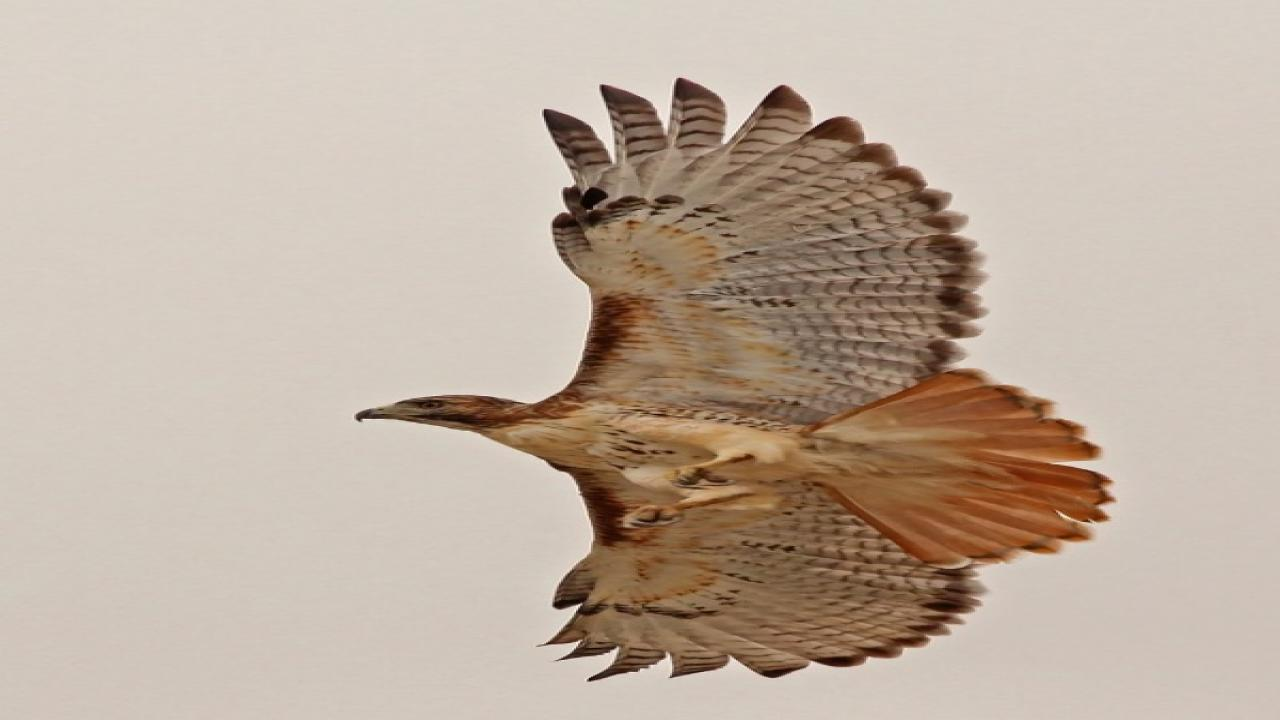Bird: (334, 70, 1124, 688)
